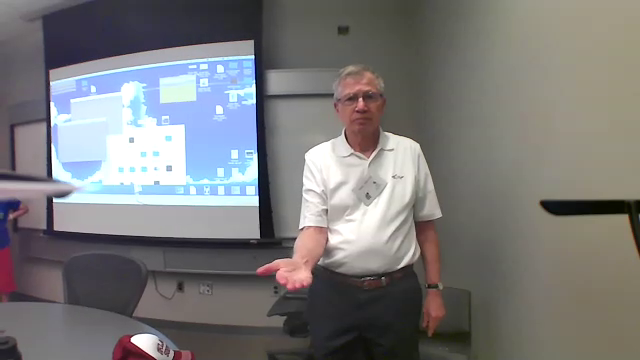land: (251, 254, 323, 297)
